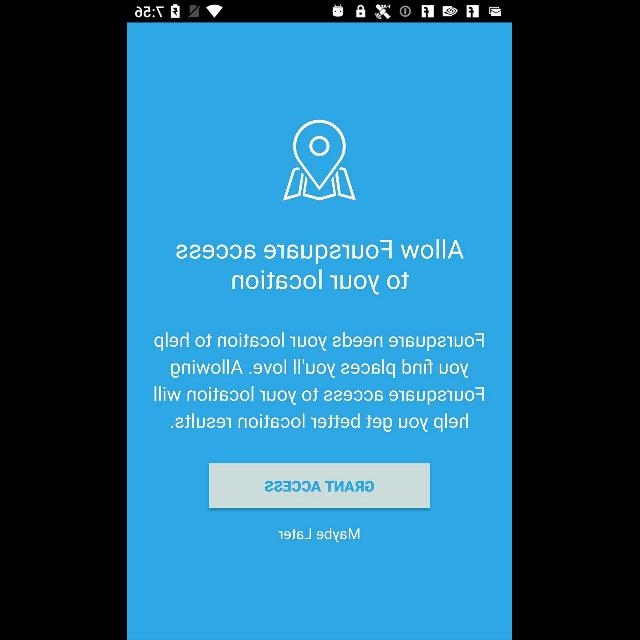icon: (283, 120, 357, 202)
text: (155, 332, 485, 432), (177, 238, 465, 296), (279, 528, 361, 542)
textbutton: (210, 464, 430, 508)
uppertaskbar: (128, 1, 512, 23)
